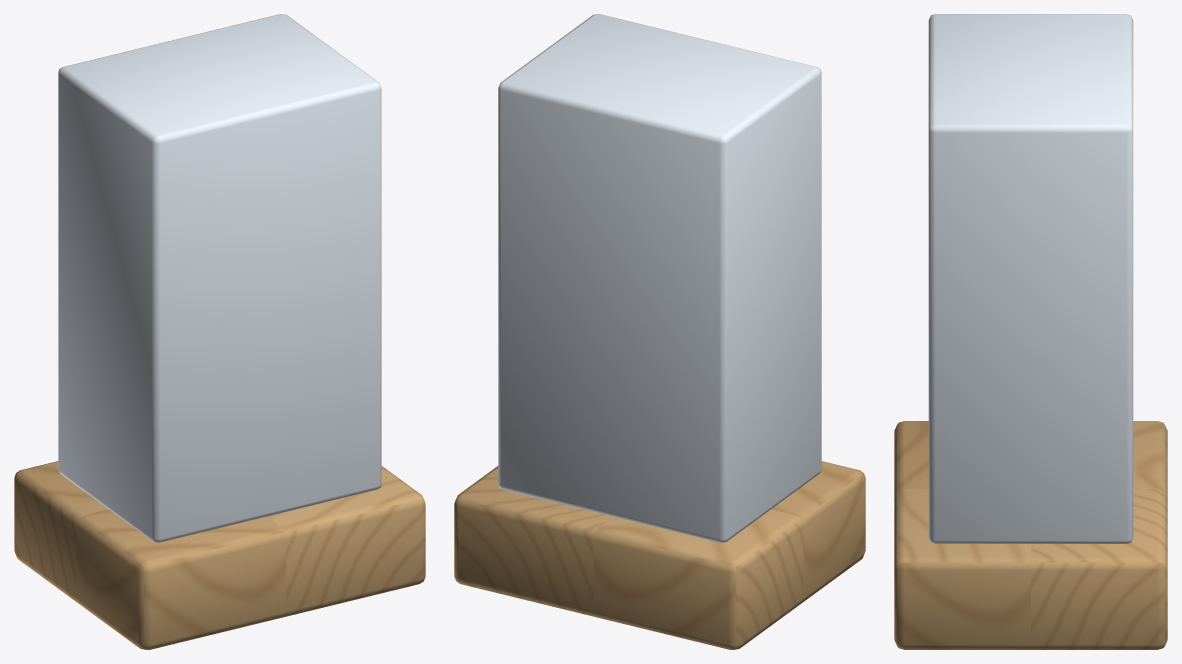
File: crystal-keepsake.glb
The picture shows the model from 3 angles, left to right: view 1: azimuth 30°, elevation 25°; view 2: azimuth 150°, elevation 25°; view 3: azimuth 270°, elevation 25°; orthographic projection. The views are drawn at different scales.
Parts seen in each view (by area): view 1: 3D crystal photo keepsake; view 2: 3D crystal photo keepsake; view 3: 3D crystal photo keepsake.
Part boxes in pixels (<box>): 3D crystal photo keepsake: <box>14,14,425,649</box>; 3D crystal photo keepsake: <box>454,14,865,649</box>; 3D crystal photo keepsake: <box>894,14,1167,649</box>.
Bounding box in the file's own units: 0.1 × 0.1658 × 0.08.
Materials: 3 (2 with a texture image).
